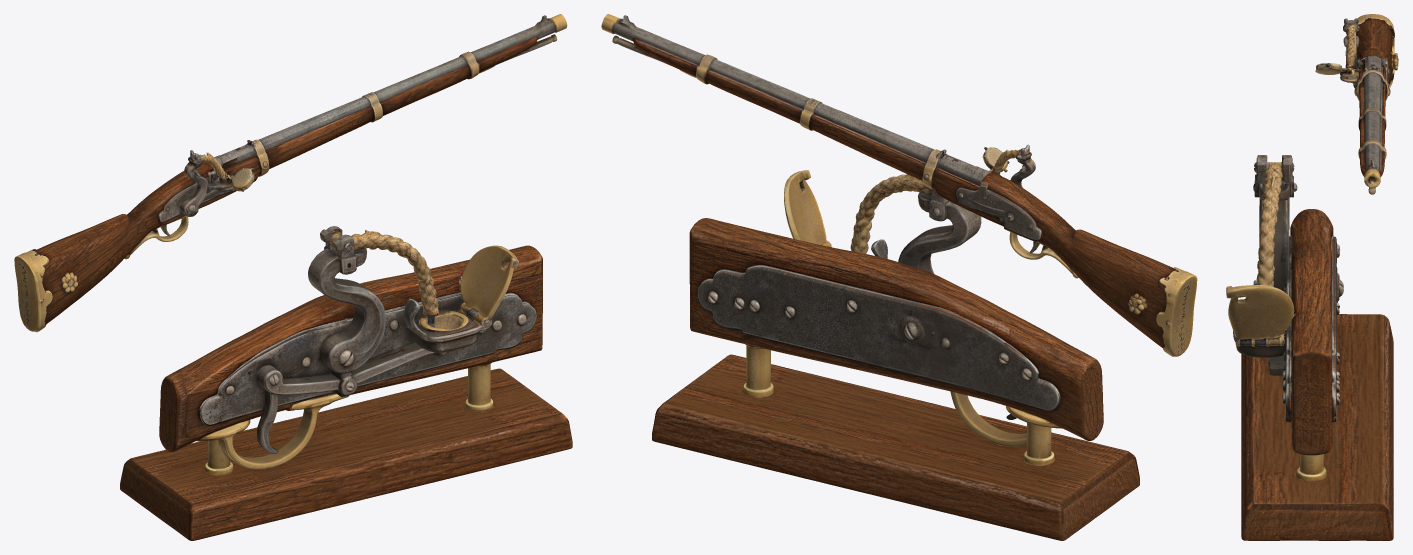
File: Fitilli tüfek mekanizması yakın görünüm.glb
3 renders of one model, left to right at view 1: azimuth 30°, elevation 25°; view 2: azimuth 150°, elevation 25°; view 3: azimuth 270°, elevation 25°, orthographic. The views are drawn at different scales.
Visible parts, largest first — view 1: tripo_node_9d336024-a441-4a89-a124-5cf71327c3e9; view 2: tripo_node_9d336024-a441-4a89-a124-5cf71327c3e9; view 3: tripo_node_9d336024-a441-4a89-a124-5cf71327c3e9.
Part boxes in pixels (x1,y1,x2,y2): tripo_node_9d336024-a441-4a89-a124-5cf71327c3e9: [14, 14, 572, 540]; tripo_node_9d336024-a441-4a89-a124-5cf71327c3e9: [601, 14, 1197, 540]; tripo_node_9d336024-a441-4a89-a124-5cf71327c3e9: [1226, 14, 1398, 540].
Size of the model in its own units: 0.9796 by 0.6555 by 0.2569.
Materials: 1 (1 with a texture image).
